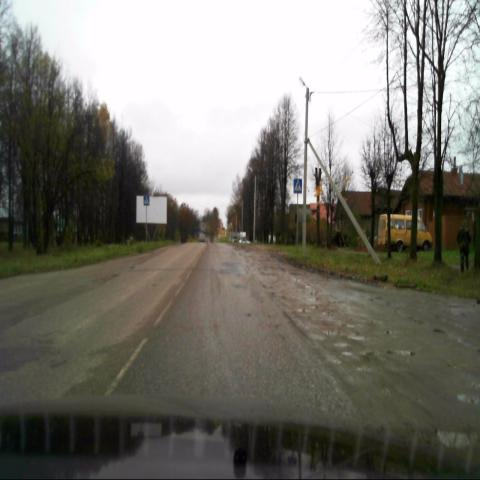5_19_1: (294, 178, 302, 193)
